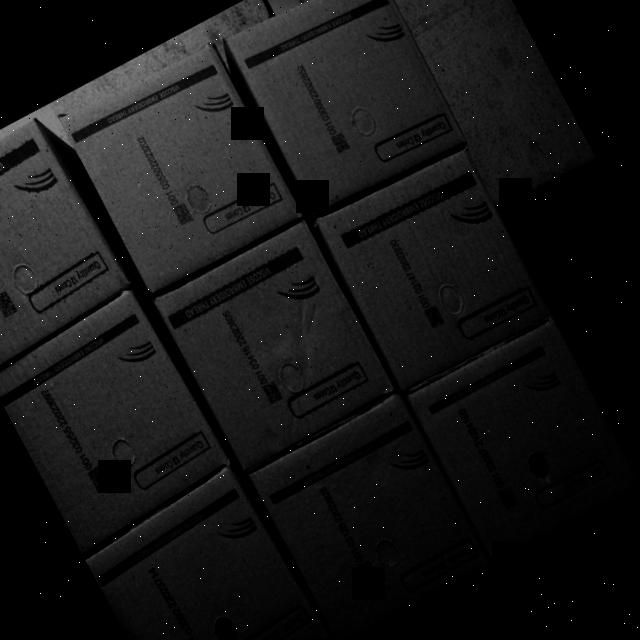box: (2, 237, 260, 508), (56, 34, 308, 298), (312, 138, 559, 404), (150, 218, 396, 471), (157, 422, 422, 640), (217, 0, 466, 222), (0, 112, 136, 376), (143, 516, 149, 526)
